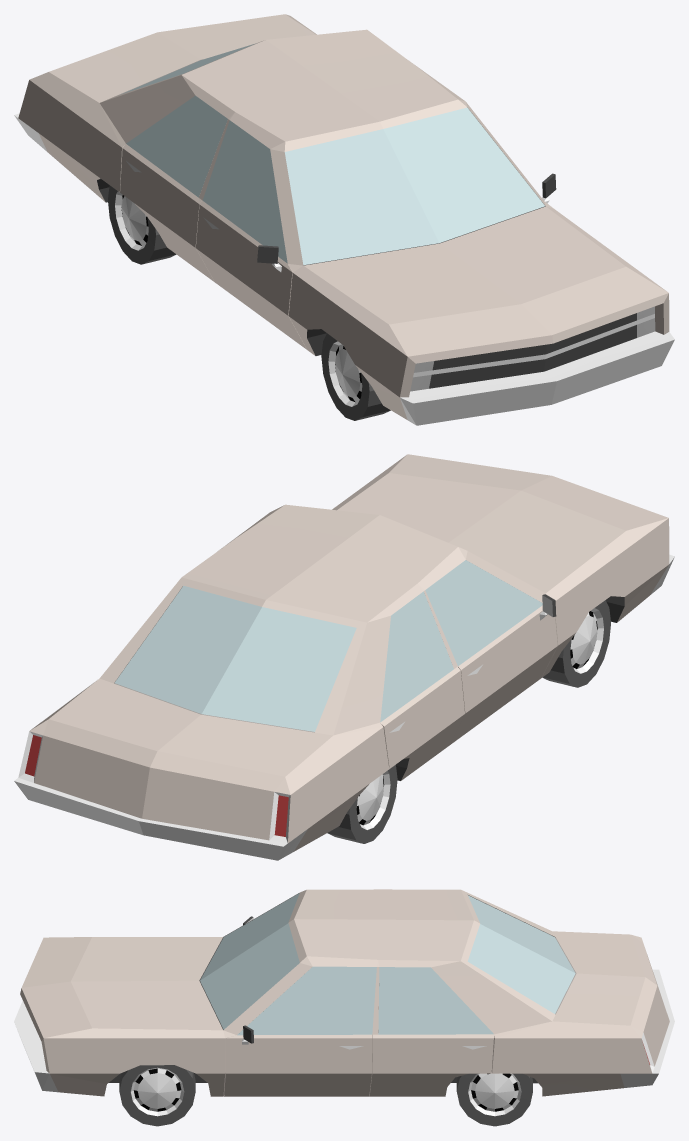
File: carro3.obj
3 renders of one model, top to bottom at view 1: azimuth 30°, elevation 25°; view 2: azimuth 150°, elevation 25°; view 3: azimuth 270°, elevation 25°, orthographic. The views are drawn at different scales.
Parts seen in each view (by area): view 1: SedanA_DoorL.001; view 2: SedanA_DoorL.001; view 3: SedanA_DoorL.001.
Boxes of the visible parts, left/top/right/bottom form: SedanA_DoorL.001: left=14, top=14, right=674, bottom=425; SedanA_DoorL.001: left=14, top=454, right=674, bottom=860; SedanA_DoorL.001: left=14, top=889, right=674, bottom=1126.
Bounding box in the file's own units: 3.07 × 2 × 7.45.
Materials: 1 (1 with a texture image).
